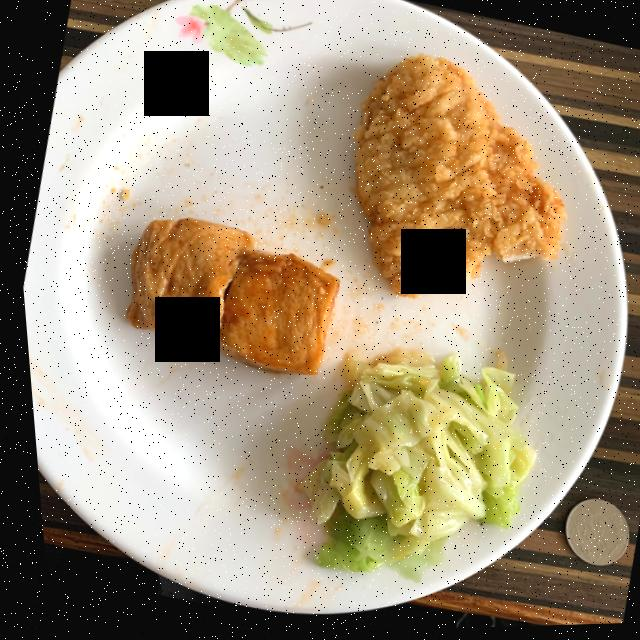cabbage: (289, 357, 526, 574)
coin: (554, 501, 618, 569)
creamy tofu: (119, 218, 333, 376)
fried chicken cutlet: (350, 57, 561, 300)
